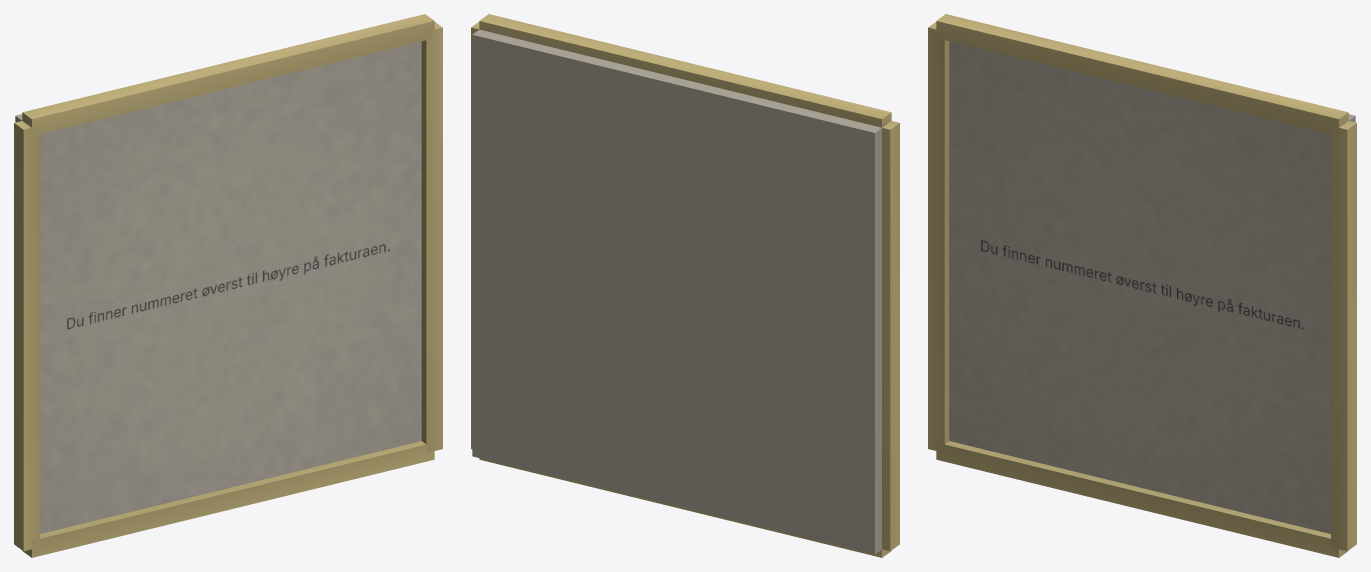
File: gallery_help_text.glb
3 views of the same model, side by side, from view 1: azimuth 30°, elevation 25°; view 2: azimuth 150°, elevation 25°; view 3: azimuth 330°, elevation 25° (orthographic).
Parts seen in each view (by area): view 1: plate; view 2: plate; view 3: plate.
Boxes of the visible parts, left/top/right/bottom form: plate: left=14, top=14, right=442, bottom=557; plate: left=471, top=14, right=899, bottom=557; plate: left=928, top=14, right=1356, bottom=557.
Bounding box in the file's own units: 0.51 × 0.51 × 0.035.
2 materials, 1 textured.
